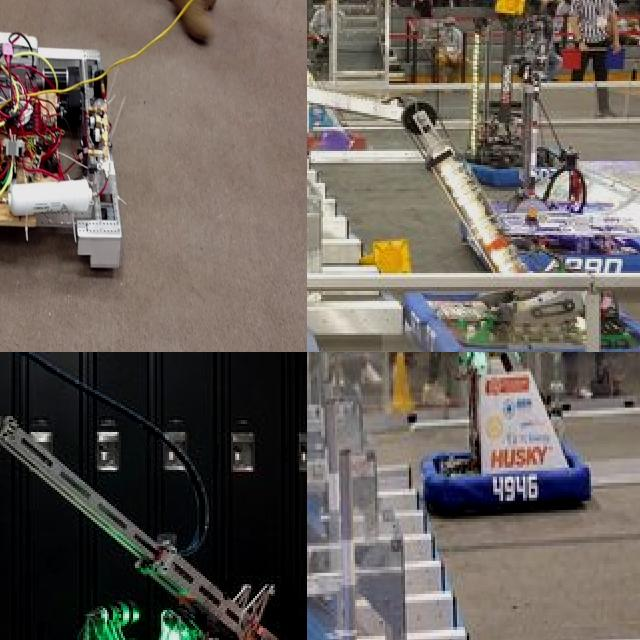FRC-Robots: (307, 22, 640, 352), (0, 352, 307, 640), (307, 352, 617, 570), (0, 20, 150, 270), (443, 141, 640, 293), (438, 25, 578, 195)
